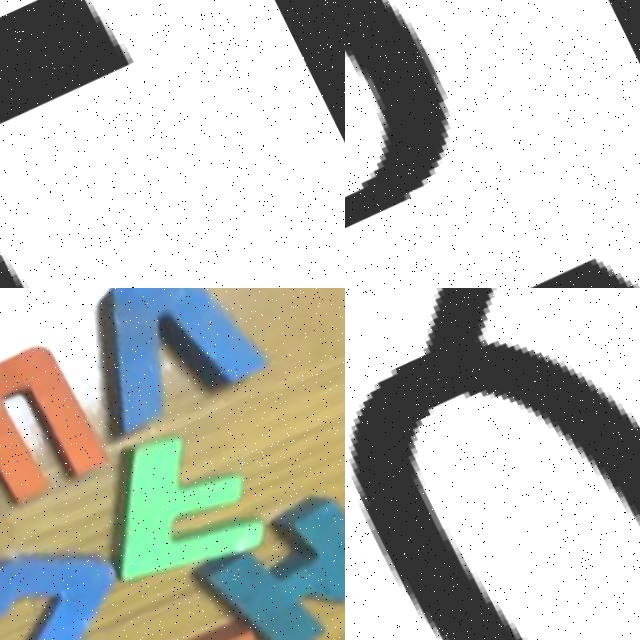5: (345, 0, 640, 288)
E: (100, 597, 303, 640)
F: (83, 409, 276, 605)
J: (0, 509, 153, 640)
K: (179, 468, 345, 640)
L: (0, 0, 345, 288)
Q: (345, 288, 640, 640)
V: (66, 288, 270, 434)
W: (0, 299, 128, 554)
